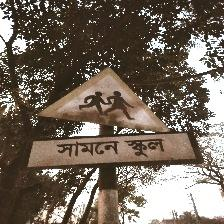School-in-front: (24, 65, 200, 169)
